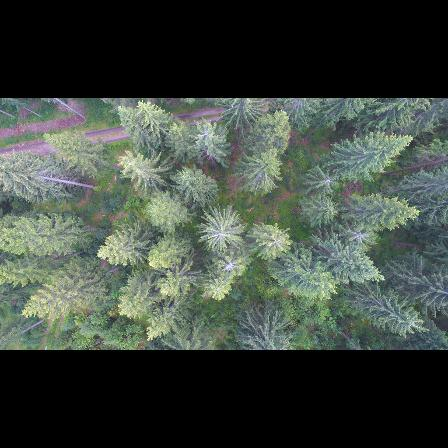Sick: (309, 166, 348, 192), (220, 252, 251, 278), (347, 224, 378, 250), (263, 234, 289, 257)
